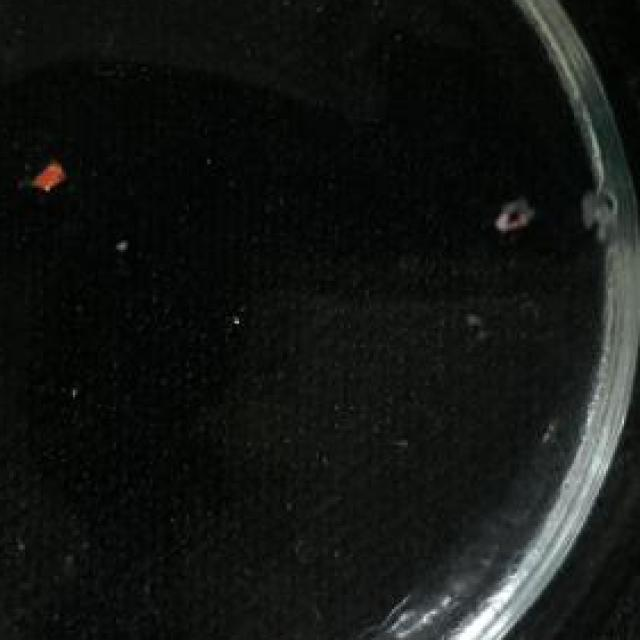Microplastic: (567, 169, 636, 235), (482, 193, 546, 264), (34, 145, 75, 212)
